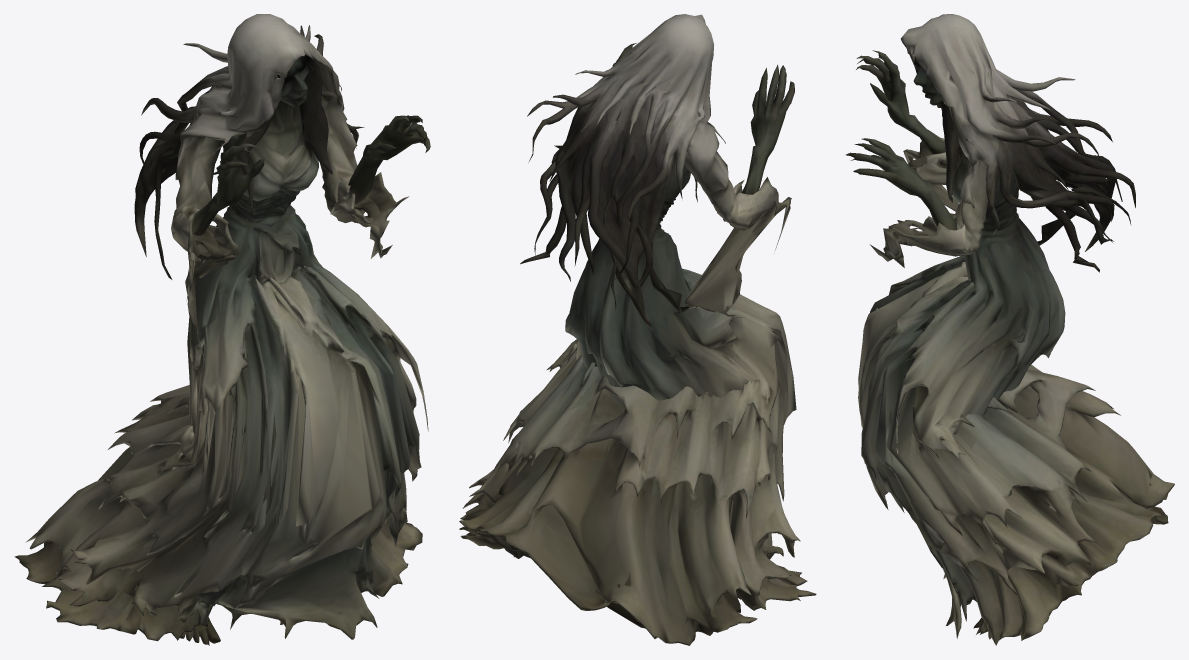
The model's file is llorona_p3.glb.
The picture shows the model from 3 angles, left to right: view 1: azimuth 30°, elevation 25°; view 2: azimuth 150°, elevation 25°; view 3: azimuth 270°, elevation 25°; orthographic projection. The views are drawn at different scales.
Parts seen in each view (by area): view 1: llorona; view 2: llorona; view 3: llorona.
Part boxes in pixels (x1,y1,x2,y2): llorona: (14, 14, 430, 645); llorona: (459, 14, 816, 645); llorona: (845, 14, 1174, 645).
Size of the model in its own units: 0.9125 by 1.48 by 0.7687.
Materials: 1 (1 with a texture image).
